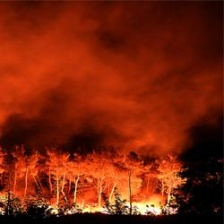fire: (1, 169, 197, 216)
